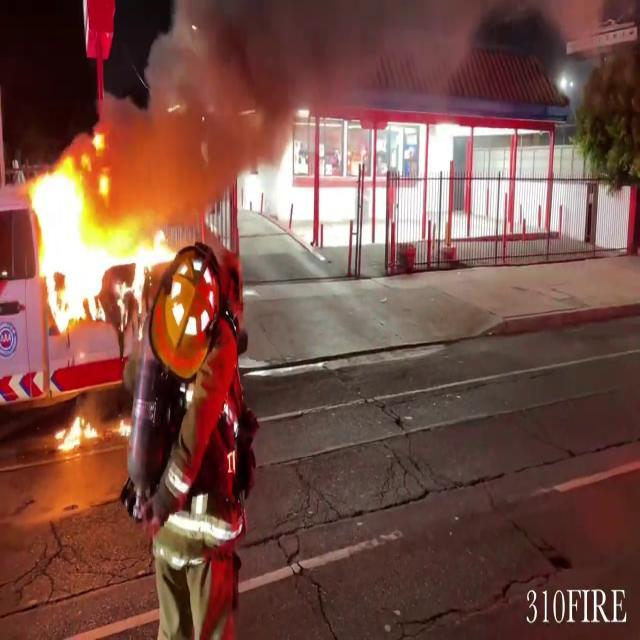Fire: (24, 143, 124, 330), (111, 210, 205, 344), (52, 405, 102, 455)
Smoke: (113, 0, 493, 156)
